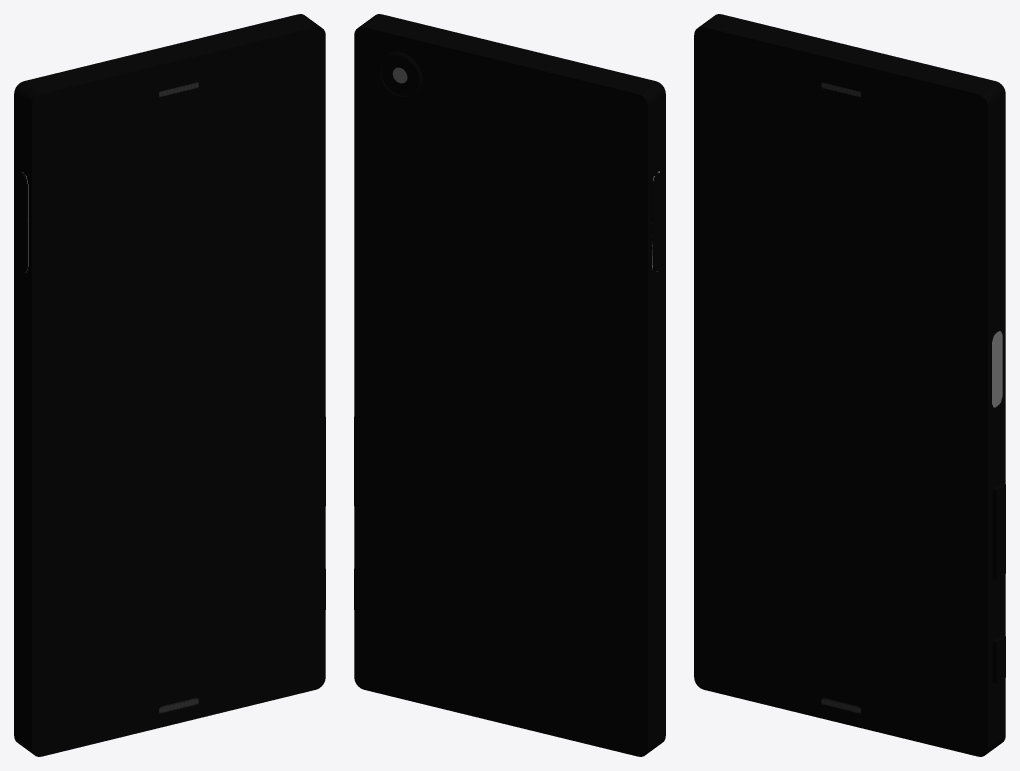
The model's file is smartphone_fix.fbx.
The picture shows the model from 3 angles, left to right: view 1: azimuth 30°, elevation 25°; view 2: azimuth 150°, elevation 25°; view 3: azimuth 330°, elevation 25°; orthographic projection.
Parts seen in each view (by area): view 1: 本体, SIMカード挿入口; view 2: 本体, 背面カメラ, SIMカード挿入口; view 3: 本体, 音量調整ボタン.
Part boxes in pixels (x1=…): 本体: x1=14, y1=14, x2=325, y2=756; SIMカード挿入口: x1=16, y1=173, x2=27, y2=271; 本体: x1=354, y1=14, x2=665, y2=756; 背面カメラ: x1=378, y1=51, x2=422, y2=98; SIMカード挿入口: x1=652, y1=173, x2=663, y2=271; 本体: x1=694, y1=14, x2=1005, y2=756; 音量調整ボタン: x1=992, y1=483, x2=1005, y2=579.
Bounding box in the file's own units: 121 × 255 × 13.49.
